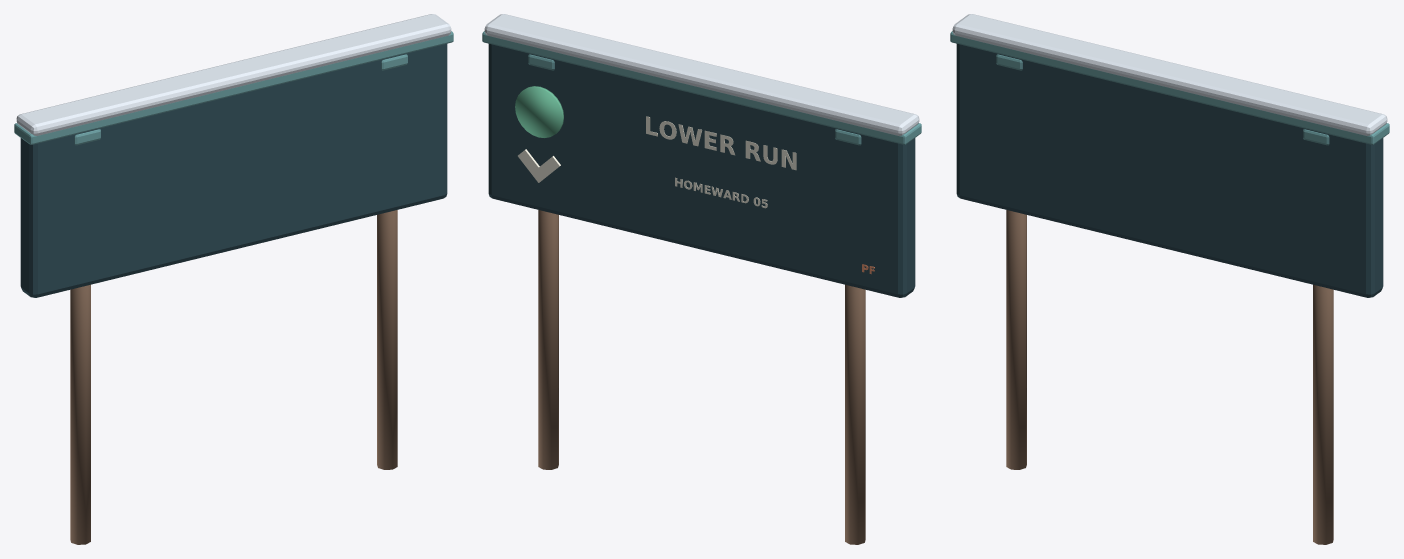
Rendered from SignLower.fbx.
The picture shows the model from 3 angles, left to right: view 1: azimuth 30°, elevation 25°; view 2: azimuth 150°, elevation 25°; view 3: azimuth 330°, elevation 25°; orthographic projection.
Visible parts, largest first — view 1: Visual_SignLower; view 2: Visual_SignLower; view 3: Visual_SignLower.
Part boxes in pixels (box(x1,y1,x2,y2)): Visual_SignLower: box(14, 14, 453, 544); Visual_SignLower: box(482, 14, 921, 544); Visual_SignLower: box(950, 14, 1389, 544).
Size of what is drawn, in the model's own units: 3.4 by 3.32 by 0.268.
